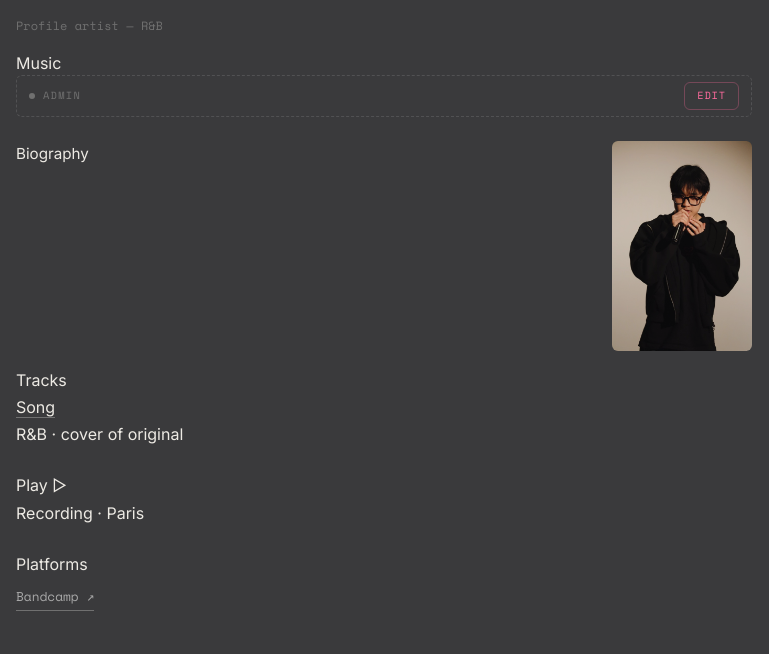
it: preserves profile fields, save errors and direct cache updates in the extracted editor
Check: the text "Profile artist — R&B" is shown, box left=16, top=17, right=163, bottom=34
Click the button "EDIT": (712, 96) left=684, top=82, right=739, bottom=110
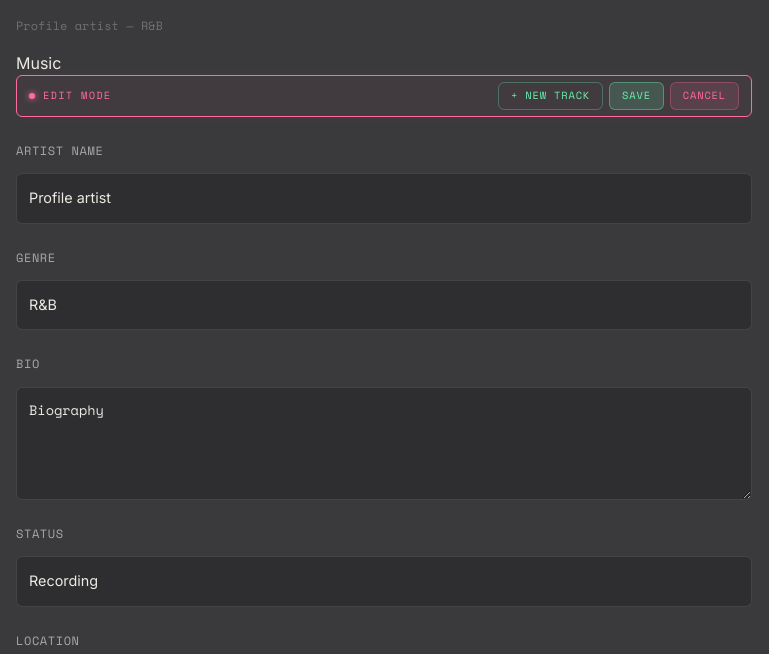
Check: the field labelled "Artist Name" holds "Profile artist"
Replace the text in the field labelled "Artist Name" with "Edited artist": (384, 198) left=16, top=173, right=752, bottom=224
Replace the text in the field labelled "Genre" with "Ambient": (384, 305) left=16, top=280, right=752, bottom=330
Replace the text in the text box labelled "Bio" with "Edited biography": (384, 443) left=16, top=387, right=752, bottom=500
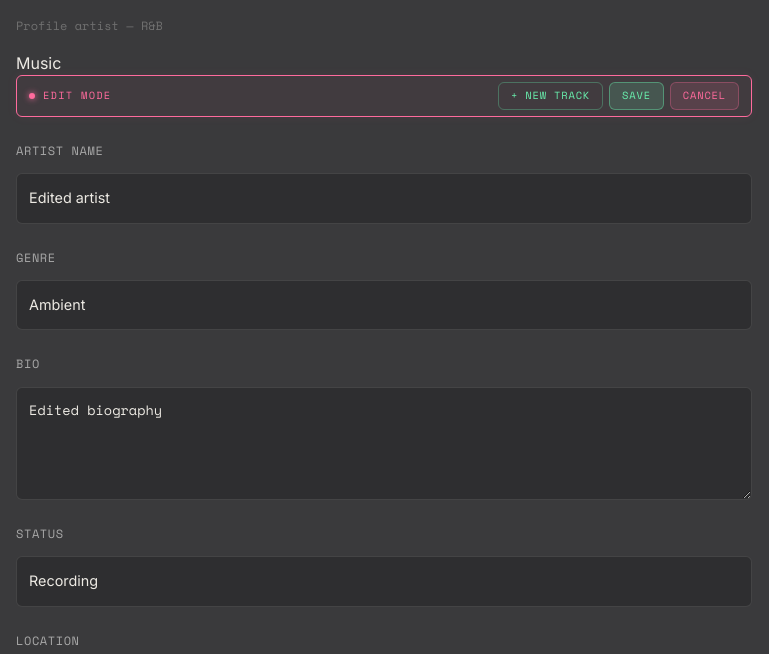
Replace the text in the field labelled "Status" with "On tour": (384, 581) left=16, top=556, right=752, bottom=607
(page scrolled)
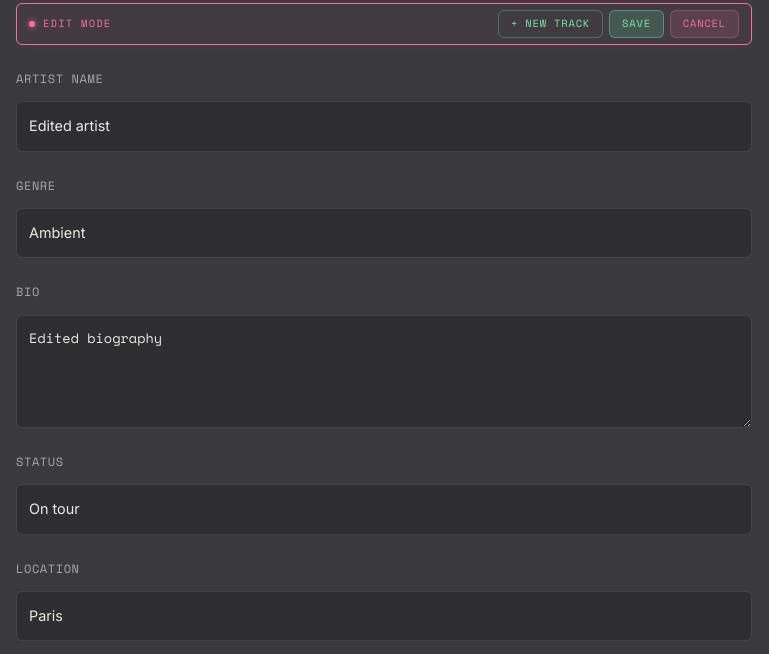
Replace the text in the field labelled "Location" with "London": (384, 616) left=16, top=591, right=752, bottom=642
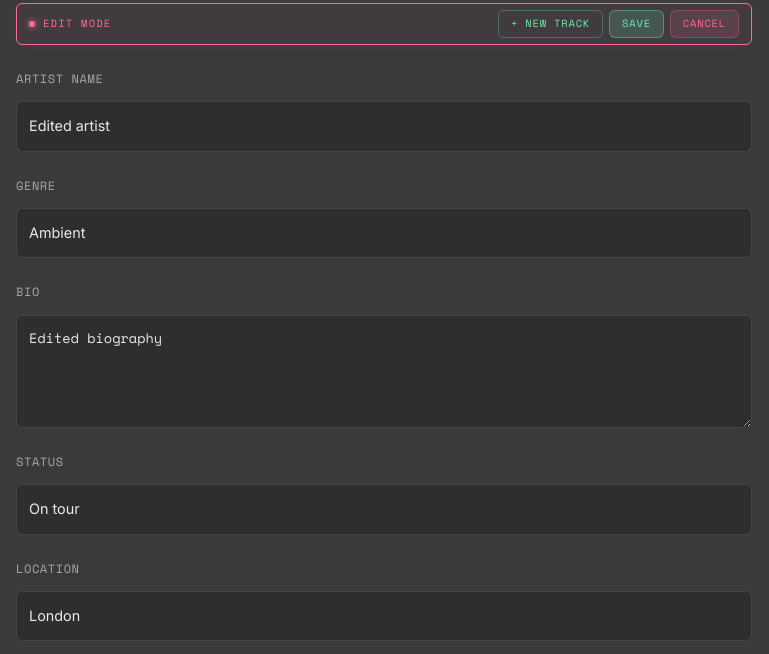
Click the button "SAVE": (636, 24) left=609, top=10, right=664, bottom=38
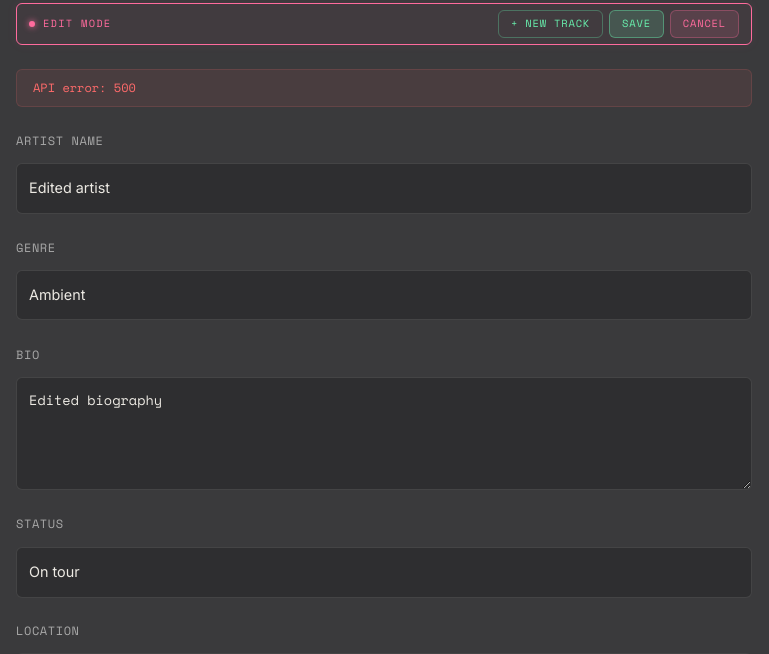
Check: the text "API error: 500" is shown, box left=16, top=69, right=752, bottom=107
Click the button "SAVE": (636, 24) left=609, top=10, right=664, bottom=38
(page scrolled)
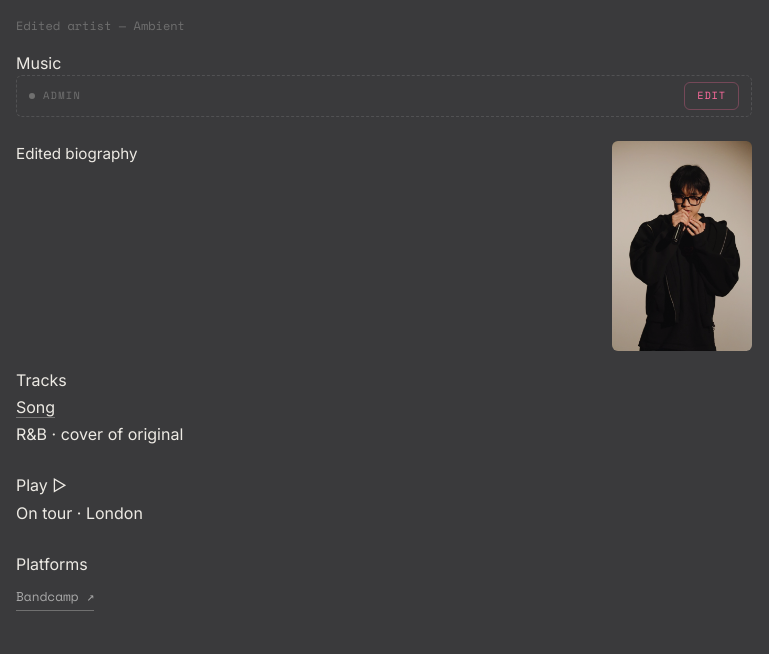
Check: the text "Edited artist — Ambient" is shown, box left=16, top=17, right=185, bottom=34
Check: the text "Edited biography" is shown, box left=16, top=144, right=138, bottom=163
Check: the text "On tour · London" is shown, box left=16, top=503, right=143, bottom=523
